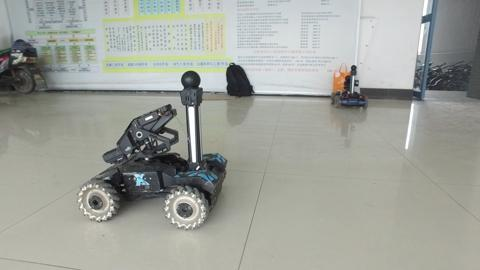bag: (218, 60, 258, 100)
chariot: (74, 67, 227, 226), (324, 59, 372, 116)
